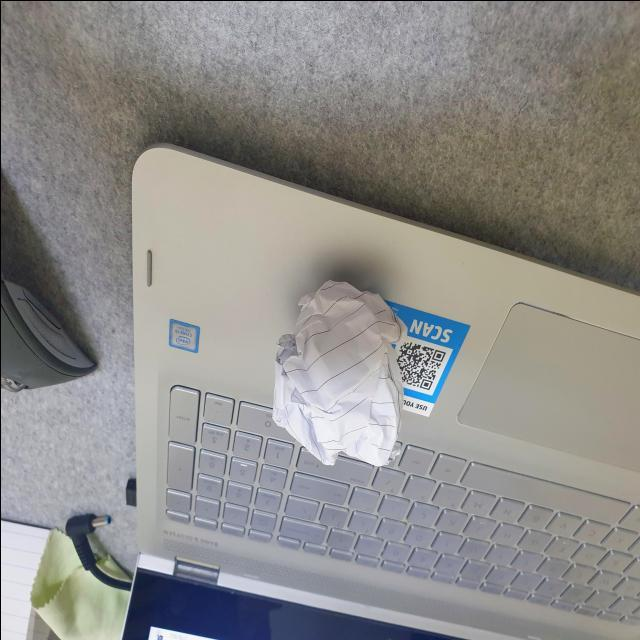Paper: (276, 290, 430, 501)
